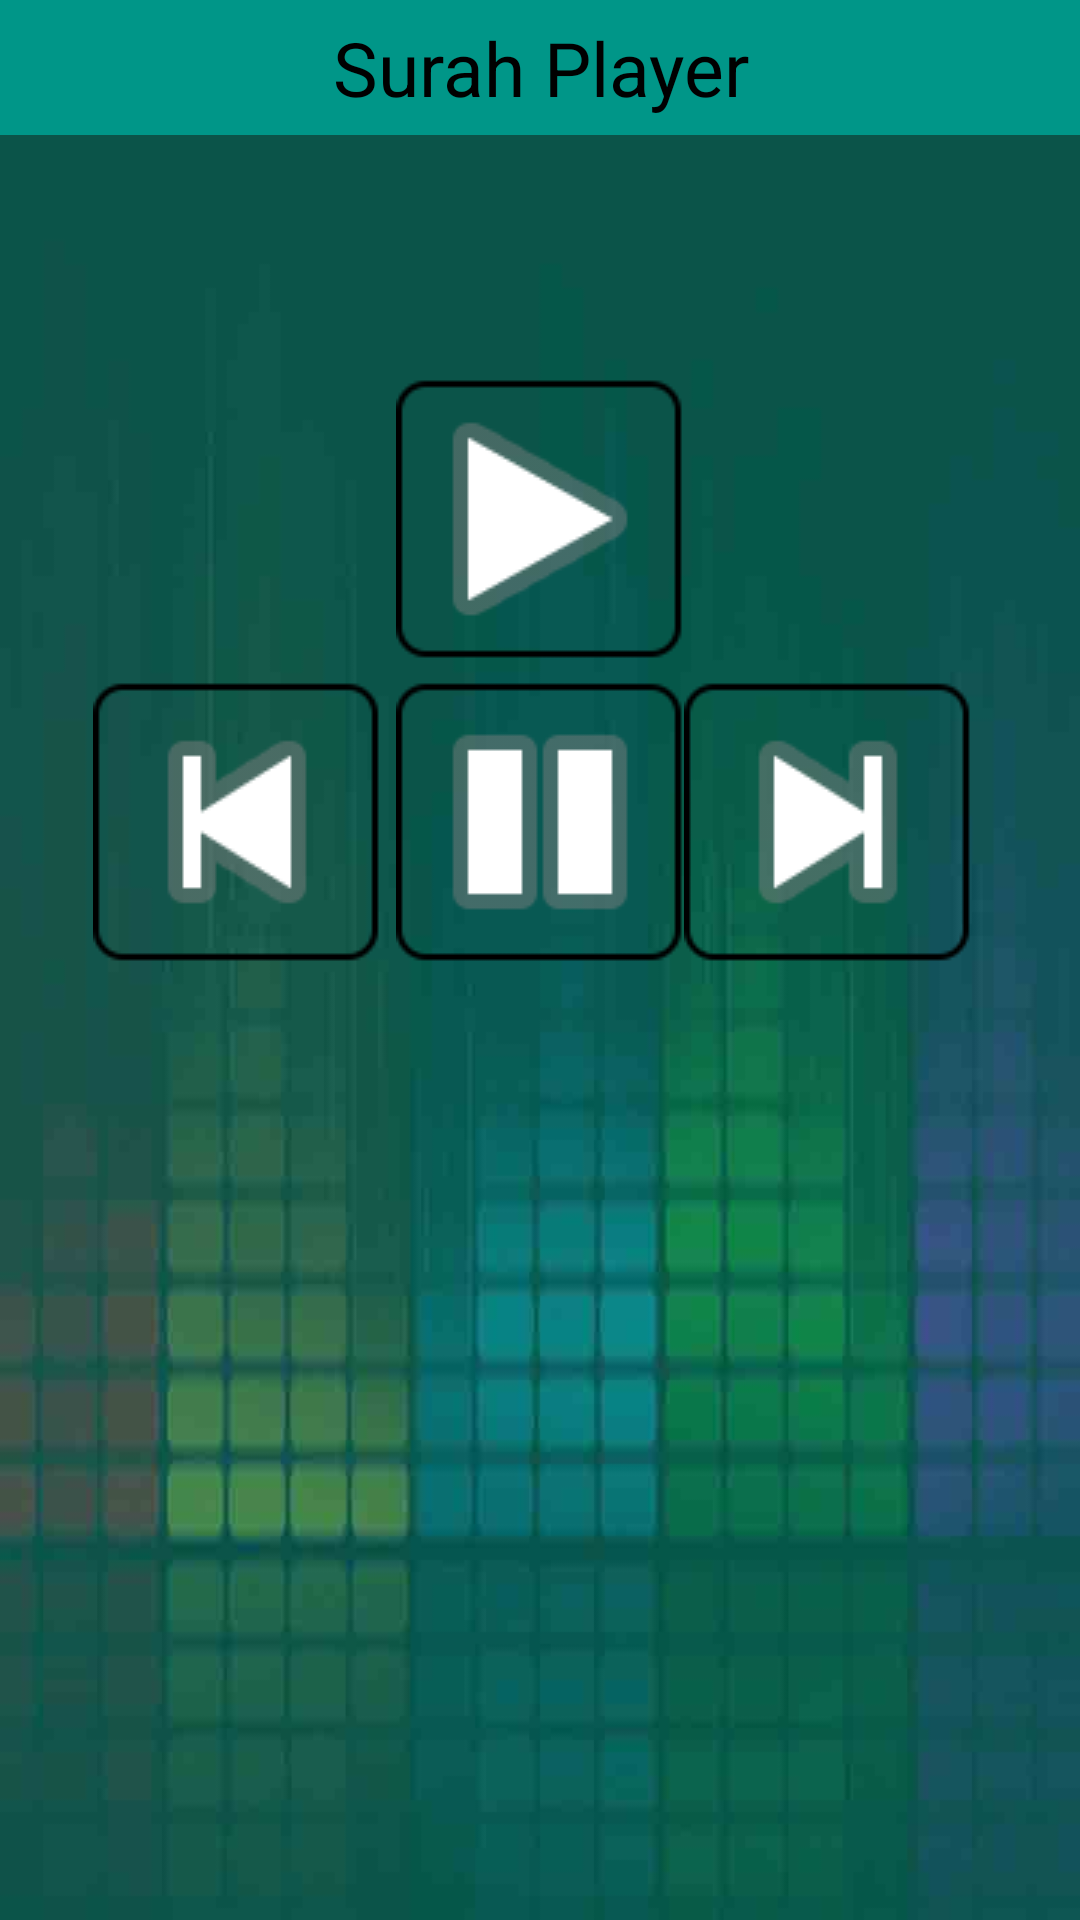

Named icons in this screenshot (1080px×1920px) and their bounding boxes, box=[x1, y1, x2, y2]:
backfinal: box=[93, 683, 379, 961]
forwardfinal: box=[684, 683, 970, 961]
pausefinal: box=[396, 678, 684, 966]
